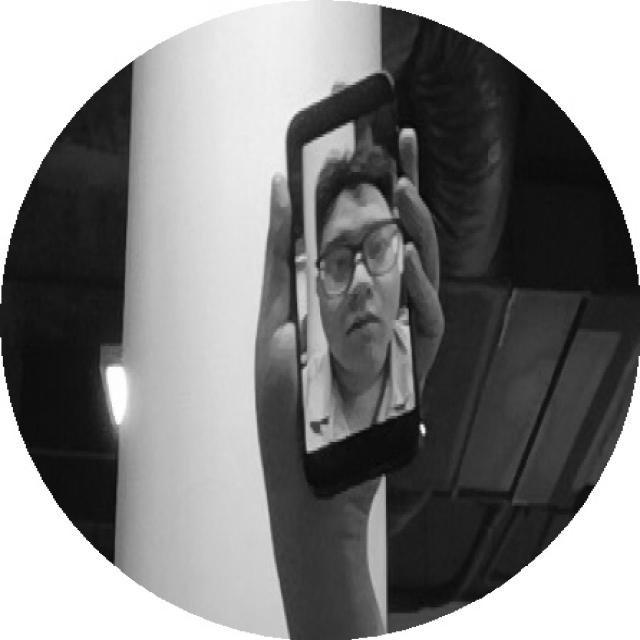fake: (250, 55, 482, 510), (279, 65, 432, 495)
